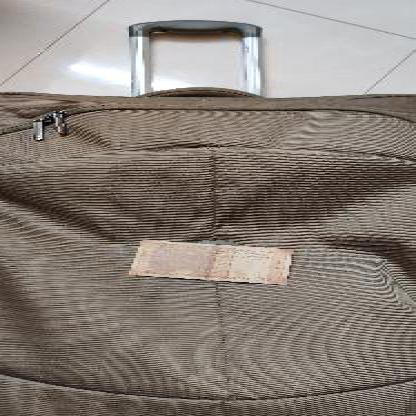New10Back: (119, 240, 293, 282)
